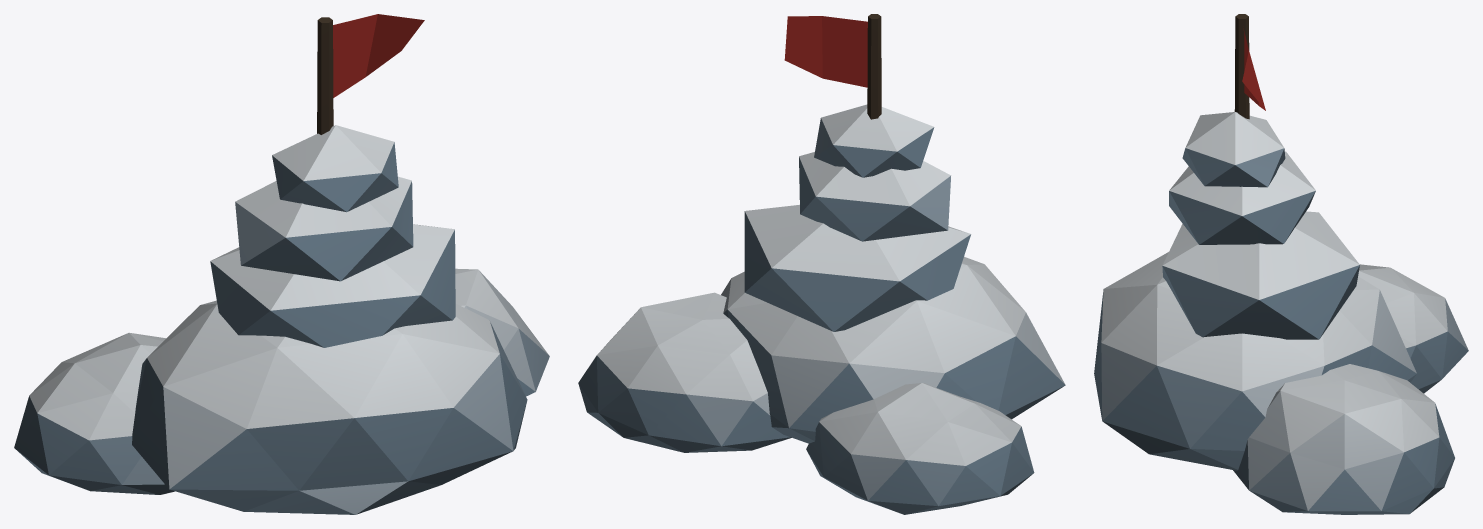
Rendered from ice_rock_c.glb.
3 views of the same model, side by side, from view 1: azimuth 30°, elevation 25°; view 2: azimuth 150°, elevation 25°; view 3: azimuth 270°, elevation 25° (orthographic). The views are drawn at different scales.
Parts seen in each view (by area): view 1: ice_rock_c; view 2: ice_rock_c; view 3: ice_rock_c.
Boxes of the visible parts, <box> form: ice_rock_c: <box>14,14,549,514</box>; ice_rock_c: <box>578,14,1065,514</box>; ice_rock_c: <box>1094,14,1468,514</box>.
Size of the model in its own units: 1.67 by 1.45 by 1.24.
